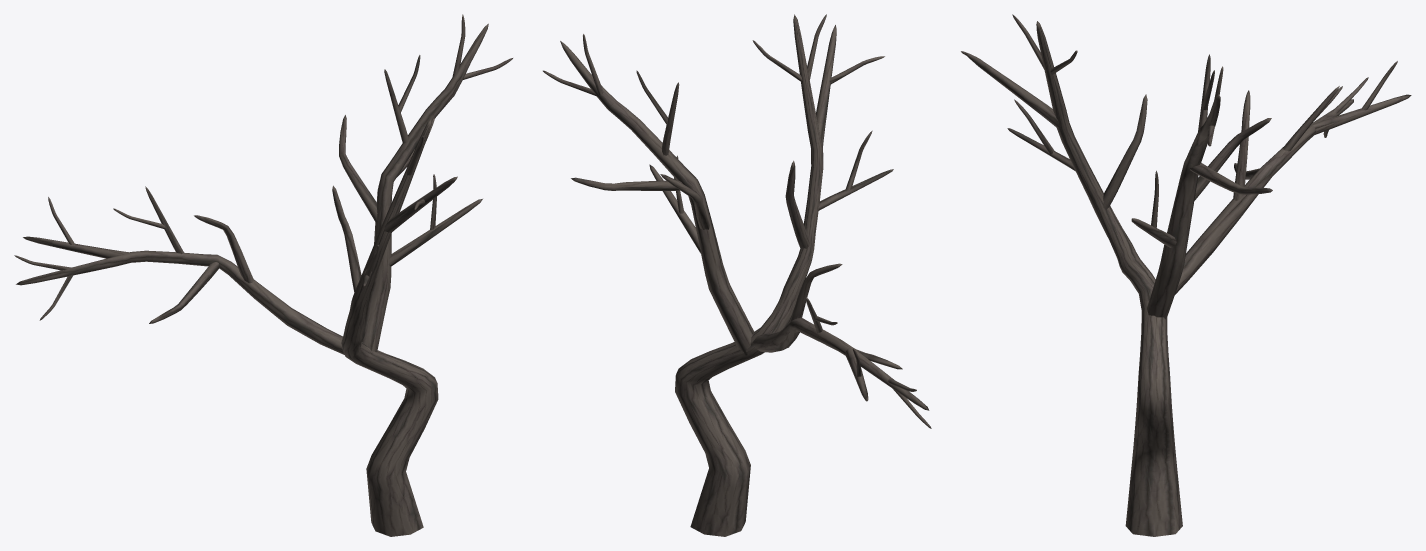
Rendered from DeadTree_7.glb.
3 views of the same model, side by side, from view 1: azimuth 30°, elevation 25°; view 2: azimuth 150°, elevation 25°; view 3: azimuth 270°, elevation 25° (orthographic). The views are drawn at different scales.
Parts seen in each view (by area): view 1: DeadTree_7; view 2: DeadTree_7; view 3: DeadTree_7.
Boxes of the visible parts, left/top/right/bottom form: DeadTree_7: left=14, top=14, right=512, bottom=536; DeadTree_7: left=543, top=14, right=931, bottom=536; DeadTree_7: left=961, top=14, right=1411, bottom=536.
Size of the model in its own units: 6.14 by 6.31 by 5.03.
Materials: 1 (1 with a texture image).
